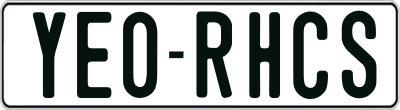0: (121, 9, 156, 99)
C: (291, 12, 326, 102)
E: (77, 9, 115, 96)
H: (246, 10, 277, 100)
R: (195, 12, 231, 98)
S: (340, 10, 377, 100)
Y: (30, 9, 68, 96)
